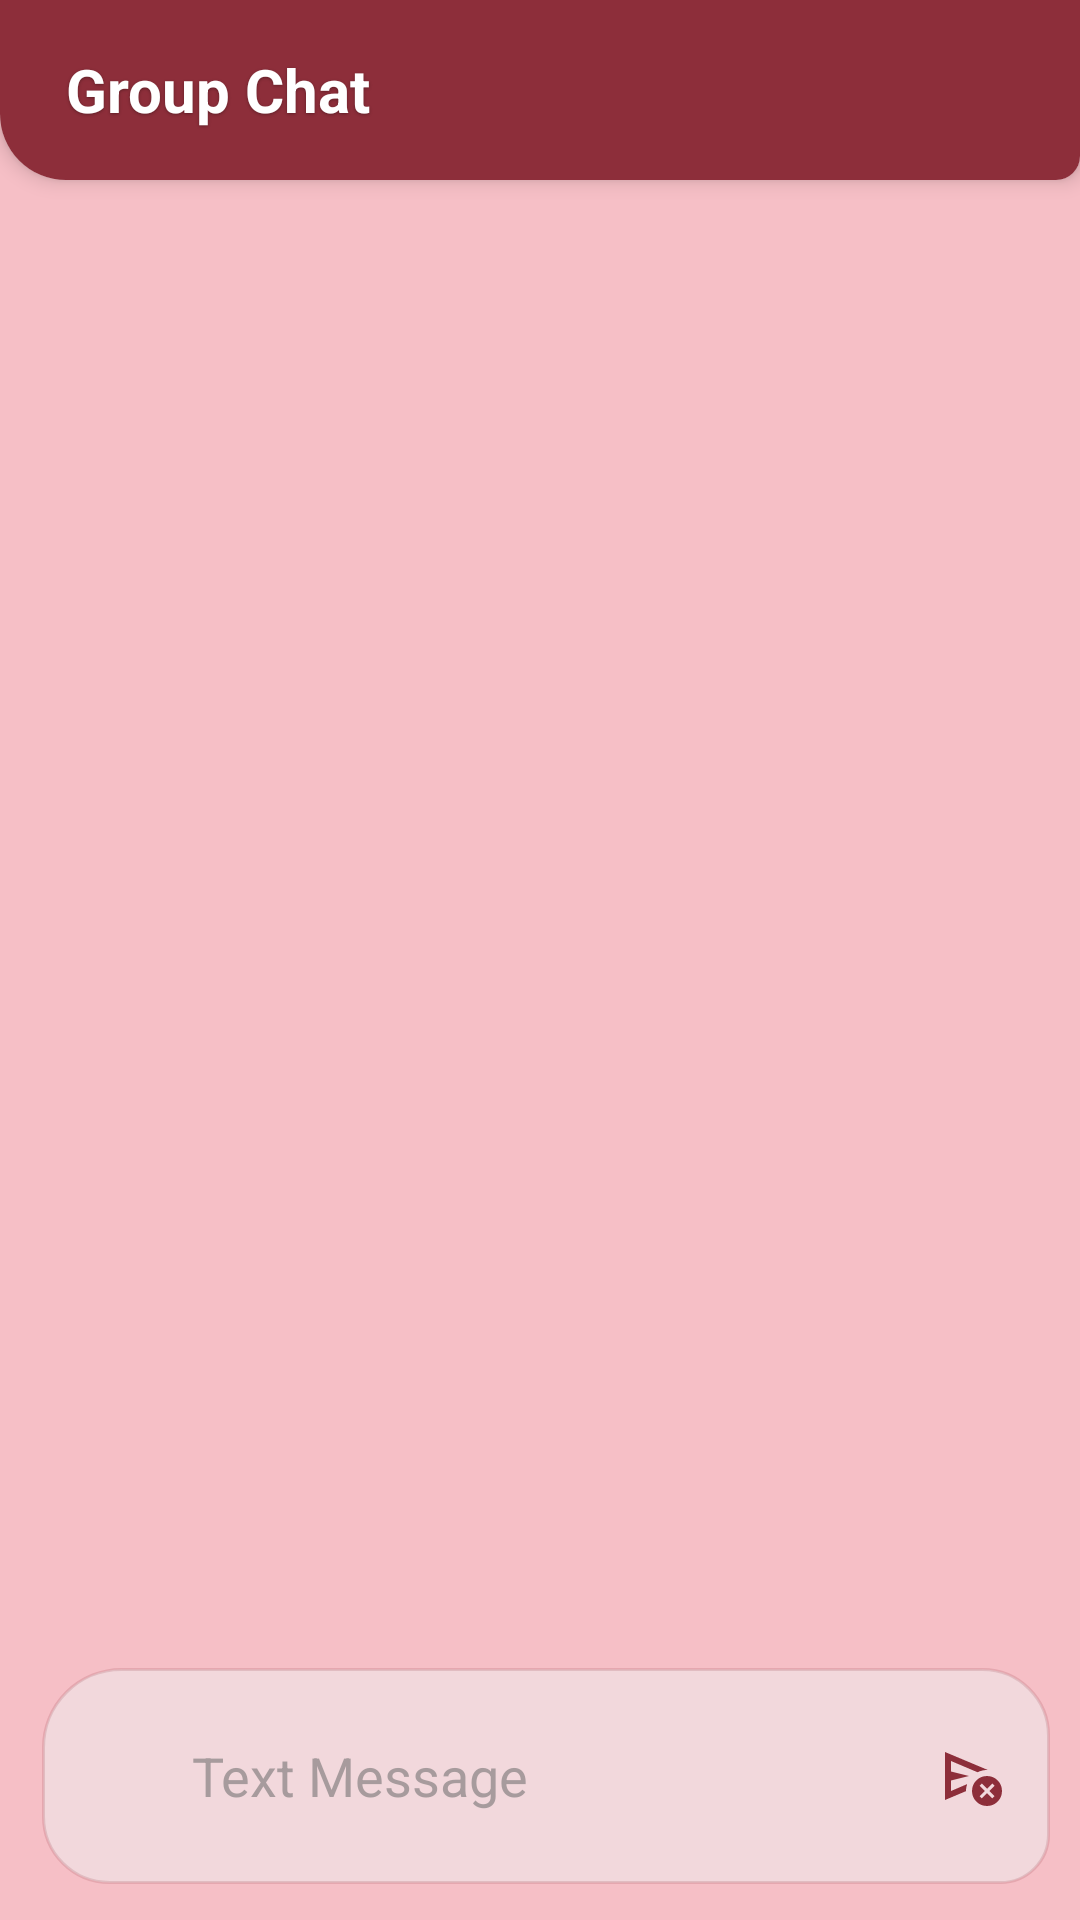

Icons on this 1080 × 1920 Android screen, each with the point to tap as [x,y]:
send: [973,1779]
